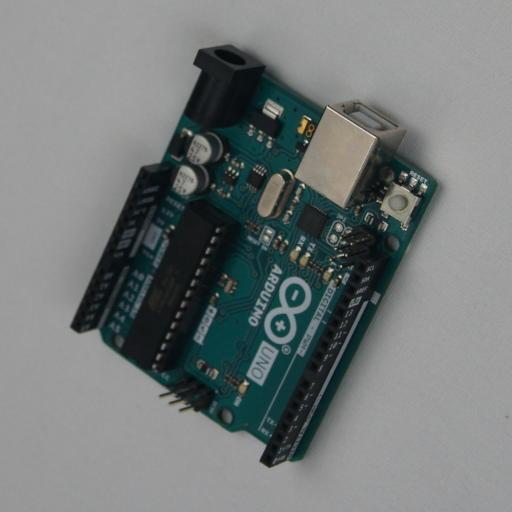RASPBERRY_PI_3B_PLUS: (70, 44, 442, 468)
